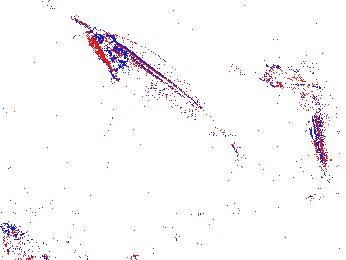X-ray fish: (1, 221, 50, 260)
glassfish: (88, 28, 257, 179), (263, 63, 343, 199)
